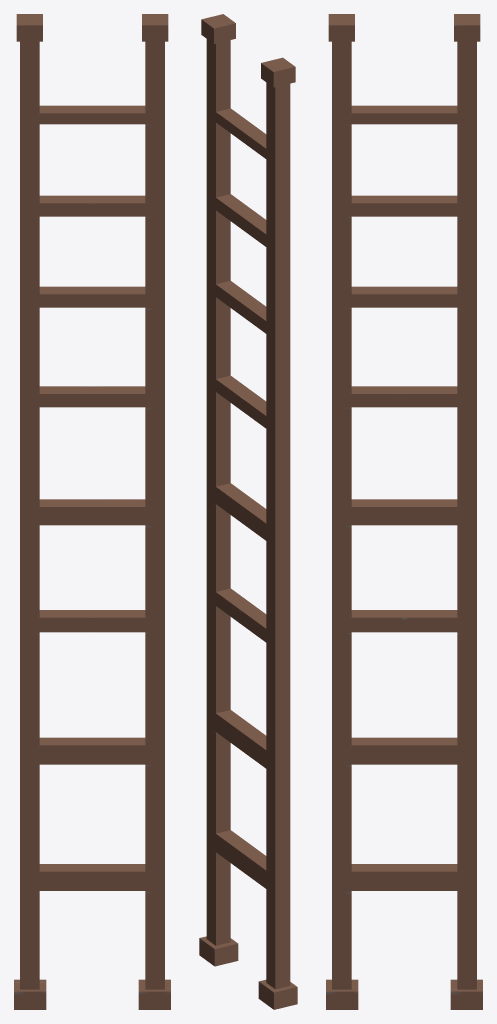
Rendered from Ladder.fbx.
3 renders of one model, left to right at view 1: azimuth 90°, elevation 25°; view 2: azimuth 210°, elevation 25°; view 3: azimuth 270°, elevation 25°, orthographic. The views are drawn at different scales.
Visible parts, largest first — view 1: Ladder; view 2: Ladder; view 3: Ladder.
Boxes of the visible parts, <box> form: Ladder: <box>14,14,170,1009</box>; Ladder: <box>199,14,297,1009</box>; Ladder: <box>326,14,482,1009</box>.
Bounding box in the file's own units: 133 × 5071 × 732.
1 material, 1 textured.
